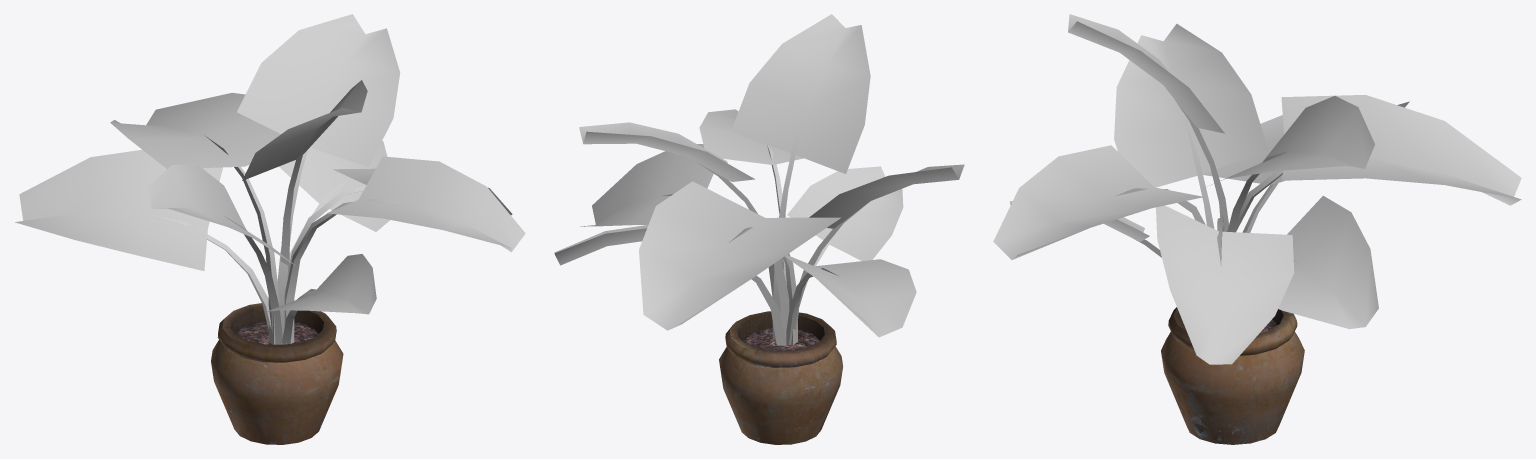
3 renders of one model, left to right at view 1: azimuth 30°, elevation 25°; view 2: azimuth 150°, elevation 25°; view 3: azimuth 270°, elevation 25°, orthographic. The views are drawn at different scales.
Visible parts, largest first — view 1: leaves, pot; view 2: leaves, pot; view 3: leaves, pot.
Part boxes in pixels (x1,y1,x2,y2): leaves: (15, 14, 525, 344); pot: (211, 303, 343, 444); leaves: (554, 14, 964, 345); pot: (719, 311, 843, 444); leaves: (993, 14, 1521, 364); pot: (1161, 307, 1304, 444).
Size of the model in its own units: 72.17 by 63.86 by 73.94.
